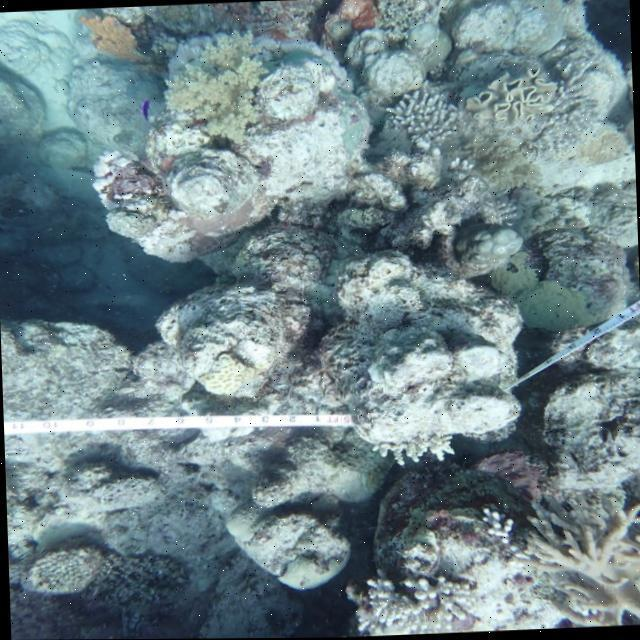Bleached Coral: (516, 40, 610, 172), (367, 68, 474, 164), (342, 561, 442, 637), (372, 425, 470, 470), (470, 496, 520, 560)
